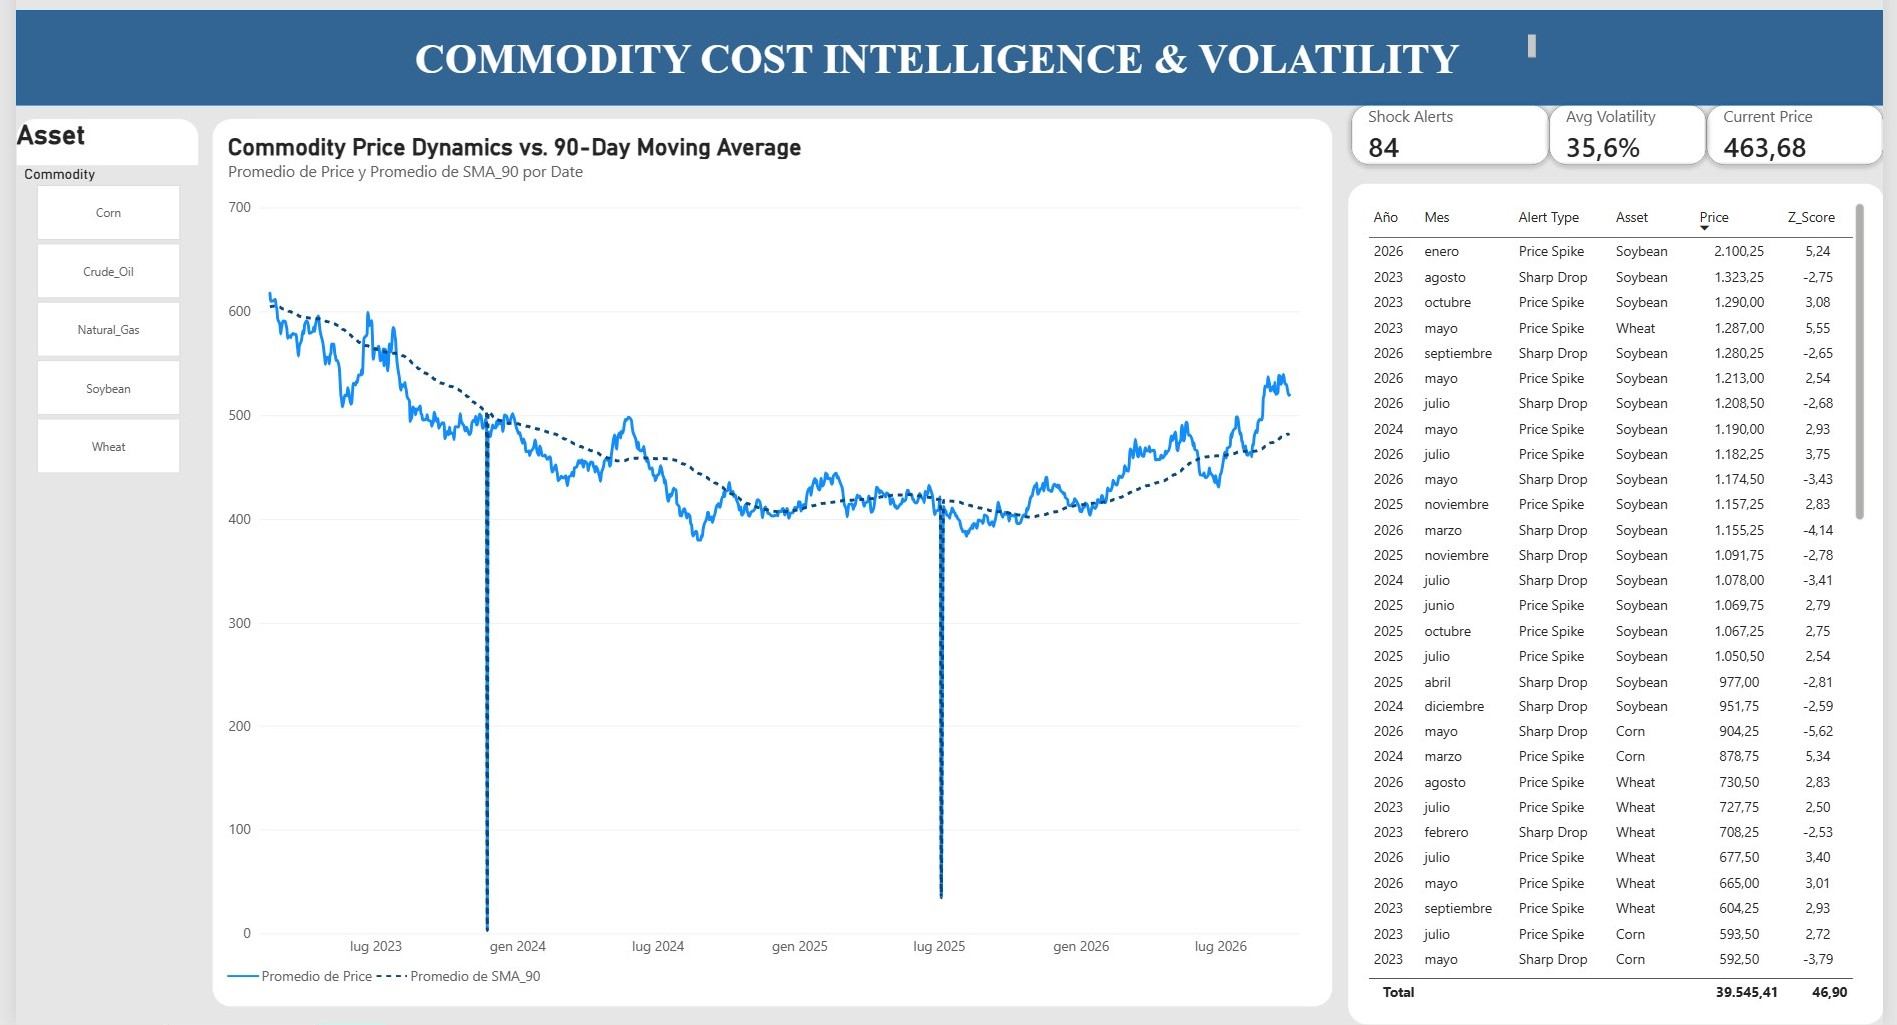

What the dashboard file says about the page in this screenshot:
{"tool":"powerbi","page":{"name":"Página 1","canvas":[1920,1080],"ordinal":0},"visuals":[{"type":"slicer","title":"Asset","fields":{"Values":["commodity_intelligence_feed.Commodity"]},"box":[0,148,188,368],"z":0},{"type":"lineChart","title":"Commodity Price Dynamics vs. 90-Day Moving Average","fields":{"Category":["commodity_intelligence_feed.Date"],"Y":["Avg(commodity_intelligence_feed.Price)","Avg(commodity_intelligence_feed.SMA_90)"]},"box":[202,148,1152,914],"z":1},{"type":"cardVisual","fields":{"Data":["Avg(commodity_intelligence_feed.Price)"]},"box":[1738,134,182,62],"z":2},{"type":"cardVisual","fields":{"Data":["Sum(commodity_intelligence_feed.Anomaly_Flag)"]},"box":[1372,134,204,62],"z":4},{"type":"tableEx","fields":{"Values":["commodity_intelligence_feed.Date.Variación.Jerarquía de fechas.Año","commodity_intelligence_feed.Date.Variación.Jerarquía de fechas.Mes","commodity_intelligence_feed.Anomaly_Type","commodity_intelligence_feed.Commodity","Sum(commodity_intelligence_feed.Price)","Sum(commodity_intelligence_feed.Z_Score)"]},"box":[1368,214,552,866],"z":5},{"type":"cardVisual","fields":{"Data":["commodity_intelligence_feed.Volatilidad_Media"]},"box":[1576,134,162,62],"z":6},{"type":"shape","box":[0,36,1920,98],"z":7},{"type":"textbox","box":[410,62,1152,48],"z":8}]}

Visuals, with their boxes on the page's 1920x1080 design canvas (x1, y1, x2, y2). These are canvas units, not pixel positions in the 1897x1025 screenshot, which may show the page scaled, cropped or inside an application window:
"Asset" slicer: select_region(0, 148, 188, 516)
"Commodity Price Dynamics vs. 90-Day Moving Average" lineChart: select_region(202, 148, 1354, 1062)
cardVisual - Avg(commodity_intelligence_feed.Price): select_region(1738, 134, 1920, 196)
cardVisual - Sum(commodity_intelligence_feed.Anomaly_Flag): select_region(1372, 134, 1576, 196)
tableEx - commodity_intelligence_feed.Date.Variación.Jerarquía de fechas.Año x commodity_intelligence_feed.Date.Variación.Jerarquía de fechas.Mes: select_region(1368, 214, 1920, 1080)
cardVisual - commodity_intelligence_feed.Volatilidad_Media: select_region(1576, 134, 1738, 196)
shape: select_region(0, 36, 1920, 134)
textbox: select_region(410, 62, 1562, 110)
